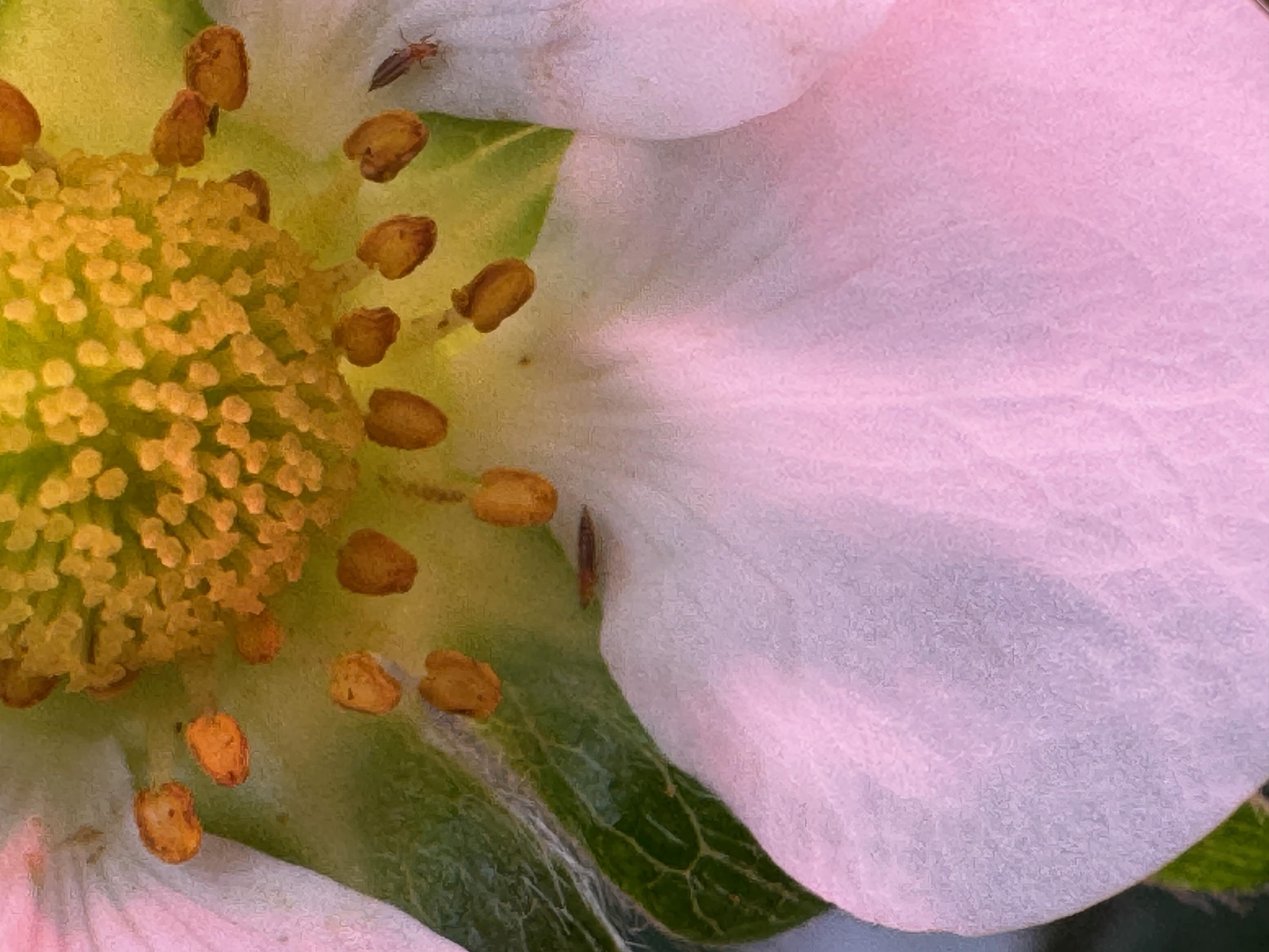tiny_pests: (557, 479, 612, 626)
